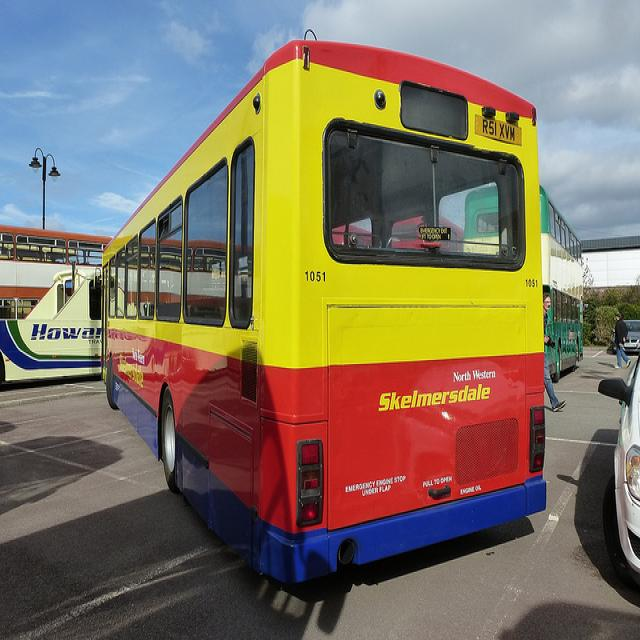Vehicle: (97, 36, 550, 595), (0, 223, 111, 386), (598, 356, 640, 584), (542, 188, 584, 383), (611, 320, 640, 353)
